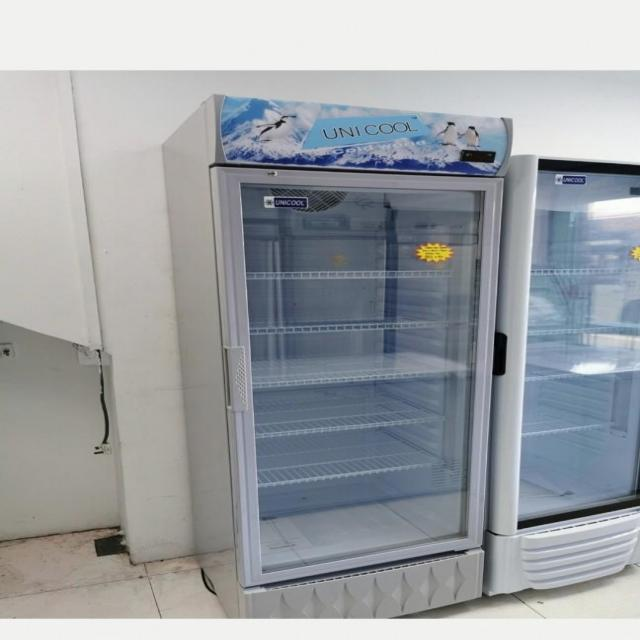refrigerator: (202, 95, 510, 619), (489, 156, 640, 597)
